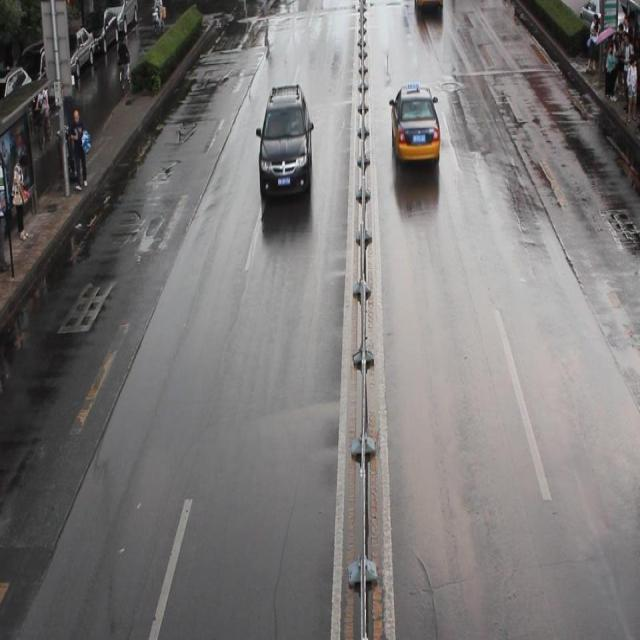car: (258, 84, 312, 199), (390, 84, 440, 165), (414, 1, 443, 10)
